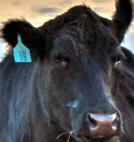muzzles: (79, 109, 124, 140)
